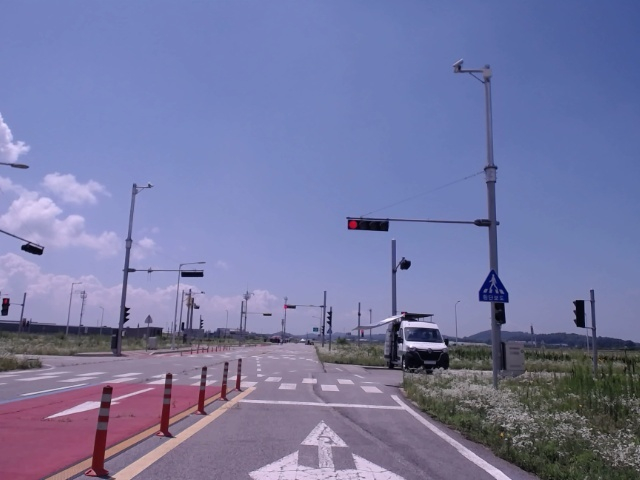red_4: (347, 220, 388, 232)
